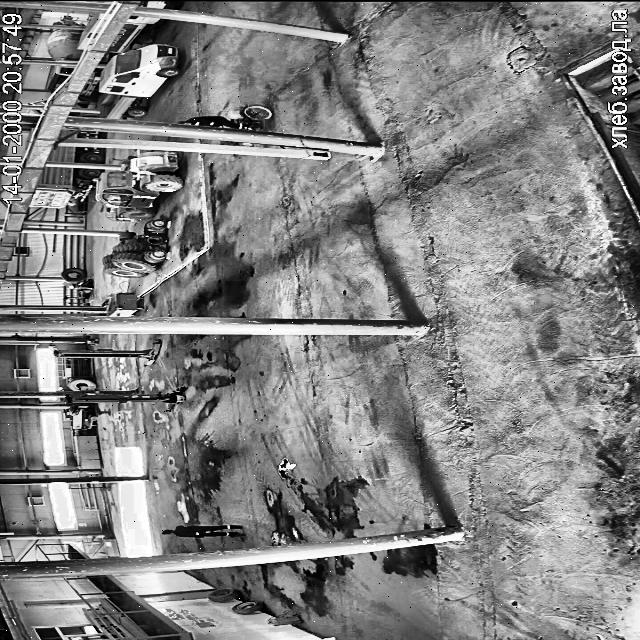car lift: (66, 388, 185, 413), (52, 344, 161, 365)
mechanic: (164, 524, 242, 536), (178, 116, 252, 128)
tractor: (96, 151, 181, 220), (102, 220, 165, 278)
truck: (100, 44, 180, 118), (28, 168, 100, 208), (108, 16, 158, 52), (46, 20, 82, 60), (48, 146, 102, 164), (78, 12, 102, 48), (78, 68, 100, 102), (45, 65, 73, 91), (140, 0, 180, 8), (76, 132, 97, 140), (60, 130, 75, 136)
